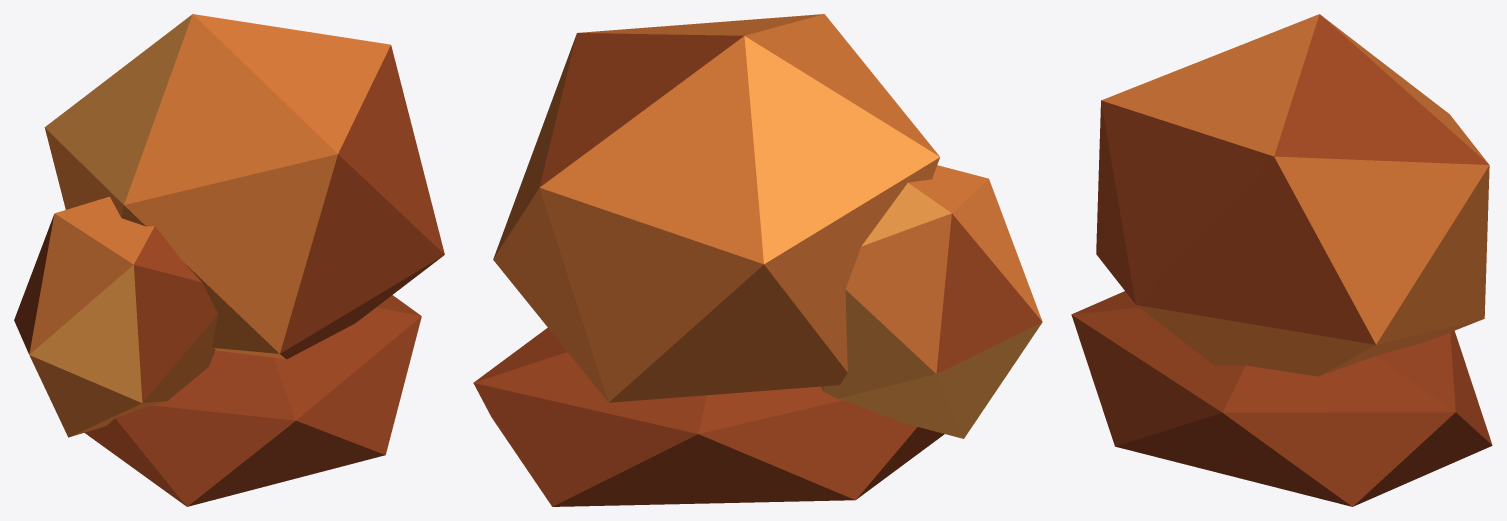
File: CopperOre_02.fbx
3 views of the same model, side by side, from view 1: azimuth 30°, elevation 25°; view 2: azimuth 150°, elevation 25°; view 3: azimuth 270°, elevation 25° (orthographic). The views are drawn at different scales.
Visible parts, largest first — view 1: Ore_02_Lobe_0, Ore_02_GroundMass, Ore_02_Lobe_1; view 2: Ore_02_Lobe_0, Ore_02_GroundMass, Ore_02_Lobe_1; view 3: Ore_02_Lobe_0, Ore_02_GroundMass.
Boxes of the visible parts, x1,y1,x2,y2 form: Ore_02_Lobe_0: (44, 14, 444, 359); Ore_02_GroundMass: (84, 295, 421, 506); Ore_02_Lobe_1: (14, 196, 218, 437); Ore_02_Lobe_0: (493, 14, 939, 402); Ore_02_GroundMass: (473, 327, 944, 506); Ore_02_Lobe_1: (821, 165, 1042, 438); Ore_02_Lobe_0: (1096, 14, 1489, 376); Ore_02_GroundMass: (1071, 291, 1492, 506).
Size of the model in its own units: 0.9163 by 0.8839 by 0.7734.
